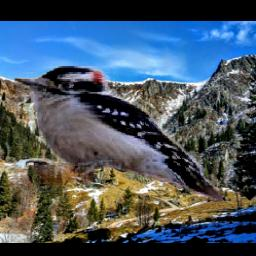Woodpecker: (13, 67, 222, 203)
